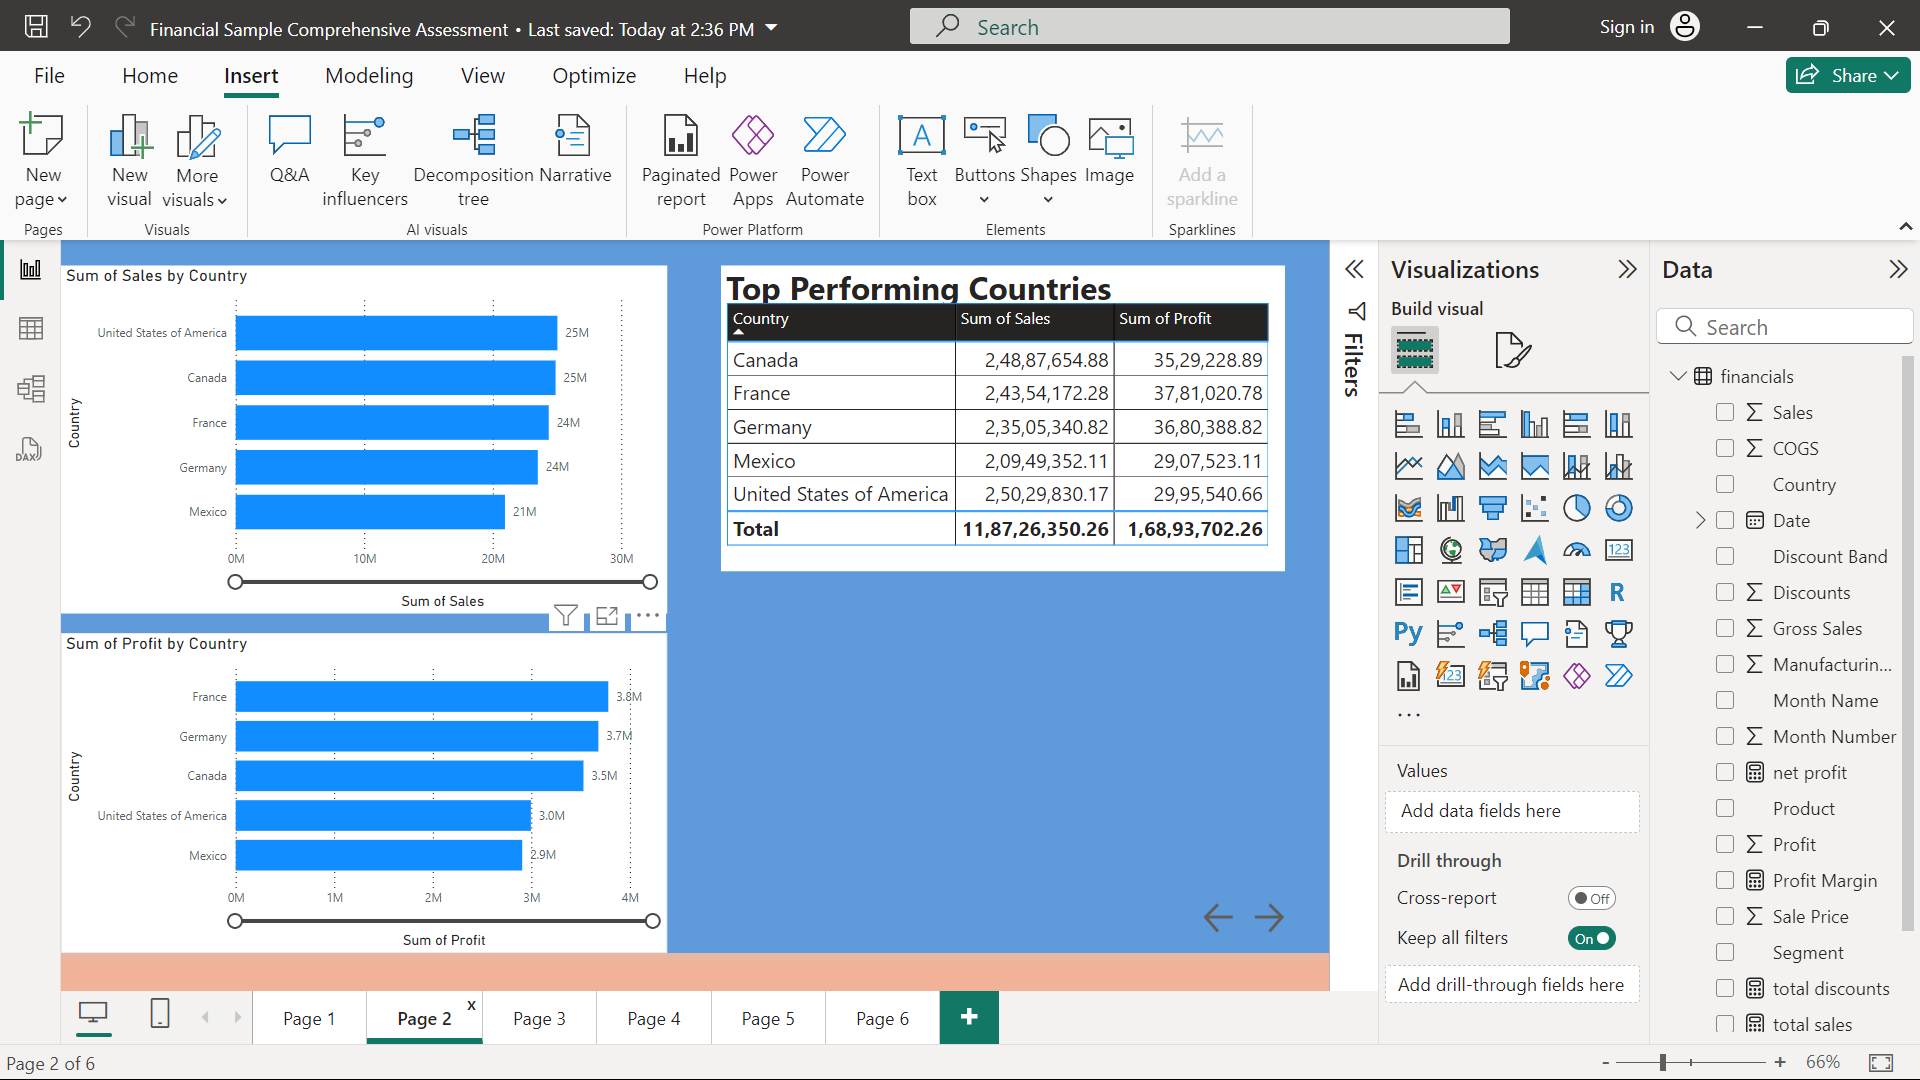

This screenshot's page, from the dashboard's own definition file:
{"tool":"powerbi","page":{"name":"Page 2","canvas":[1280,720],"ordinal":1},"visuals":[{"type":"tableEx","title":"Top Performing Countries","fields":{"Values":["financials.Country","Sum(financials. Sales)","Sum(financials.Profit)"]},"box":[666.3,25.7,569.3,308.9],"z":0},{"type":"clusteredBarChart","fields":{"Category":["financials.Country"],"Y":["Sum(financials. Sales)"]},"box":[0,25.7,611.7,351.3],"z":1000},{"type":"clusteredBarChart","fields":{"Category":["financials.Country"],"Y":["Sum(financials.Profit)"]},"box":[0,396.7,611.7,322.5],"z":2000},{"type":"actionButton","box":[1199.3,664.7,72.7,39.4],"z":2001},{"type":"actionButton","box":[1149.3,664.7,99.9,39.4],"z":2002}]}

Visuals, with their boxes on the page's 1280x720 design canvas (x1, y1, x2, y2). These are canvas units, not pixel positions in the 1920x1080 screenshot, which may show the page scaled, cropped or inside an application window:
"Top Performing Countries" tableEx: x1=666, y1=26, x2=1236, y2=335
clusteredBarChart - financials.Country x Sum(financials. Sales): x1=0, y1=26, x2=612, y2=377
clusteredBarChart - financials.Country x Sum(financials.Profit): x1=0, y1=397, x2=612, y2=719
actionButton: x1=1199, y1=665, x2=1272, y2=704
actionButton: x1=1149, y1=665, x2=1249, y2=704
